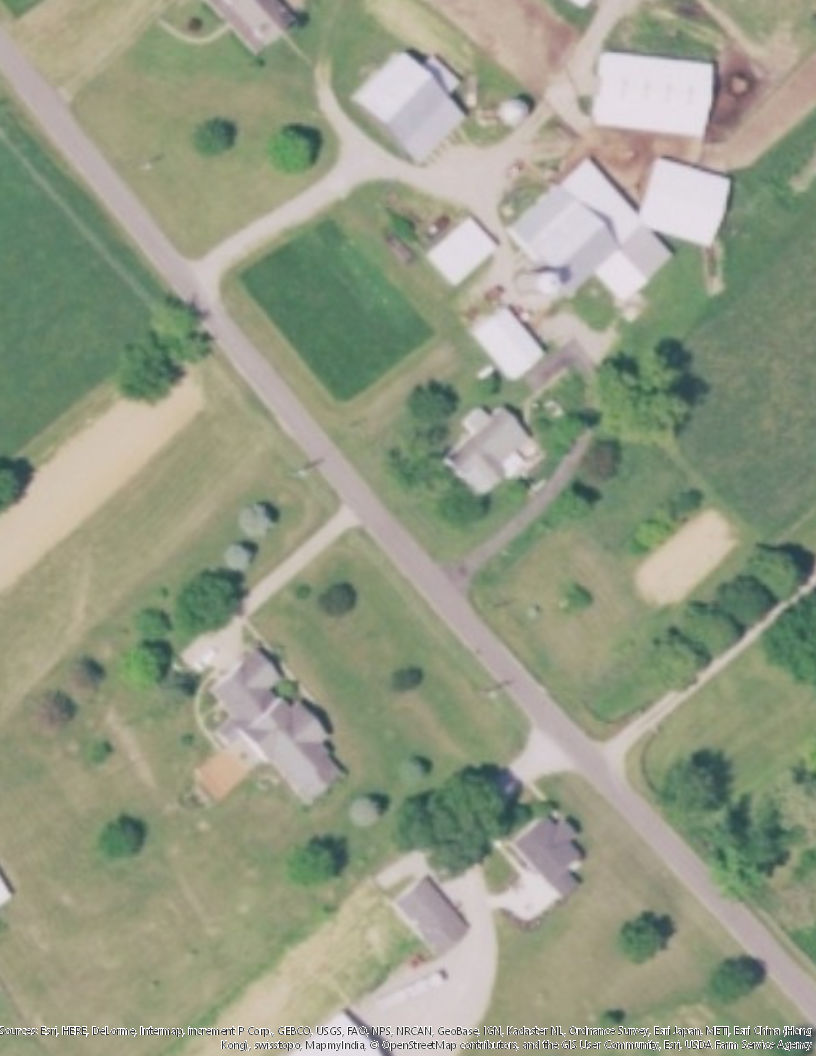cafo: (509, 153, 737, 305), (576, 37, 734, 143)
